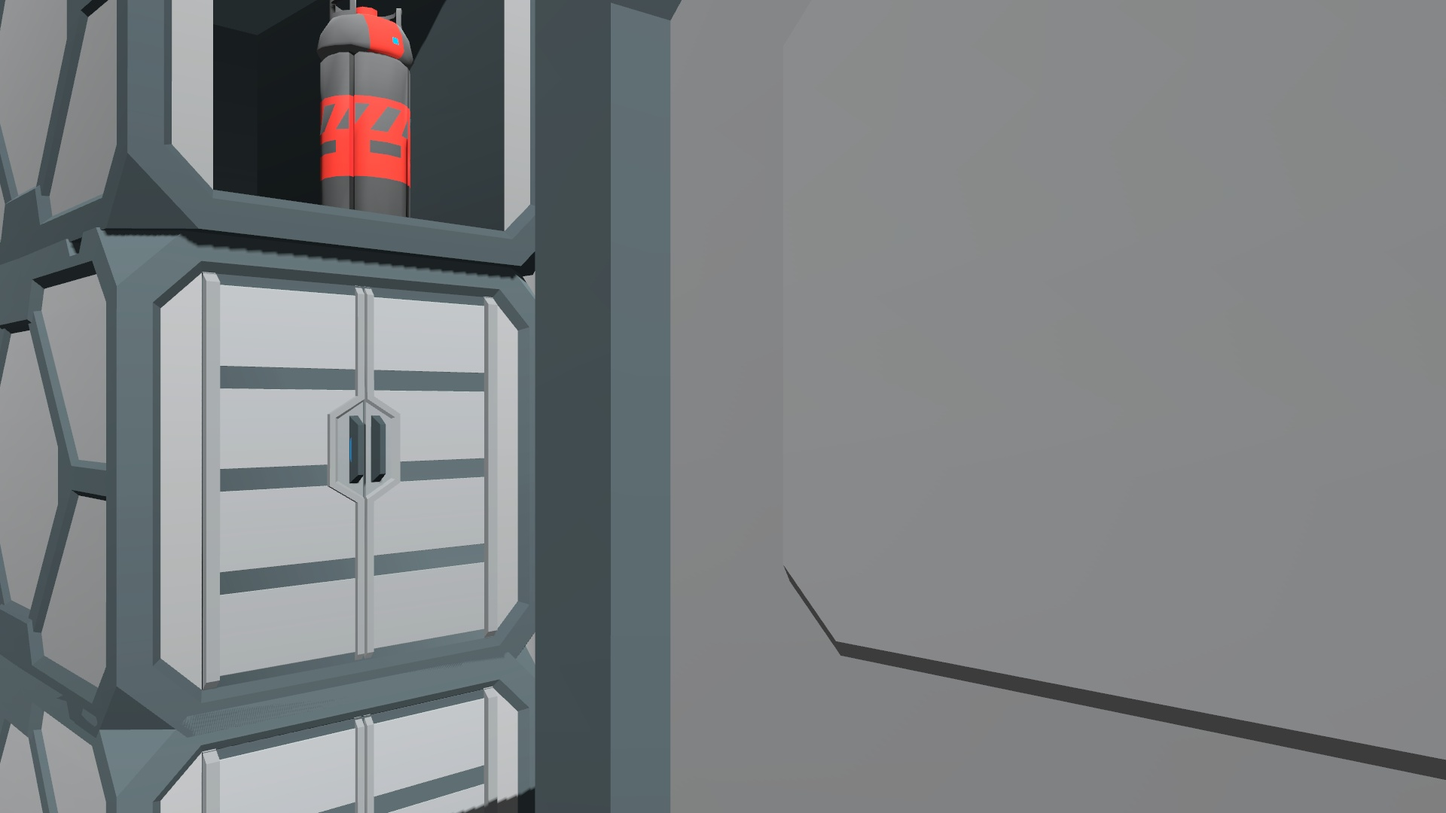red_barrel: (314, 0, 419, 230)
